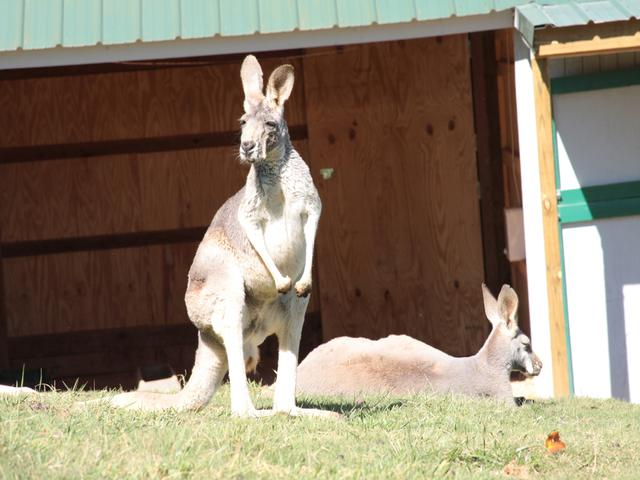kangaroo: (117, 53, 352, 433), (289, 267, 560, 425)
